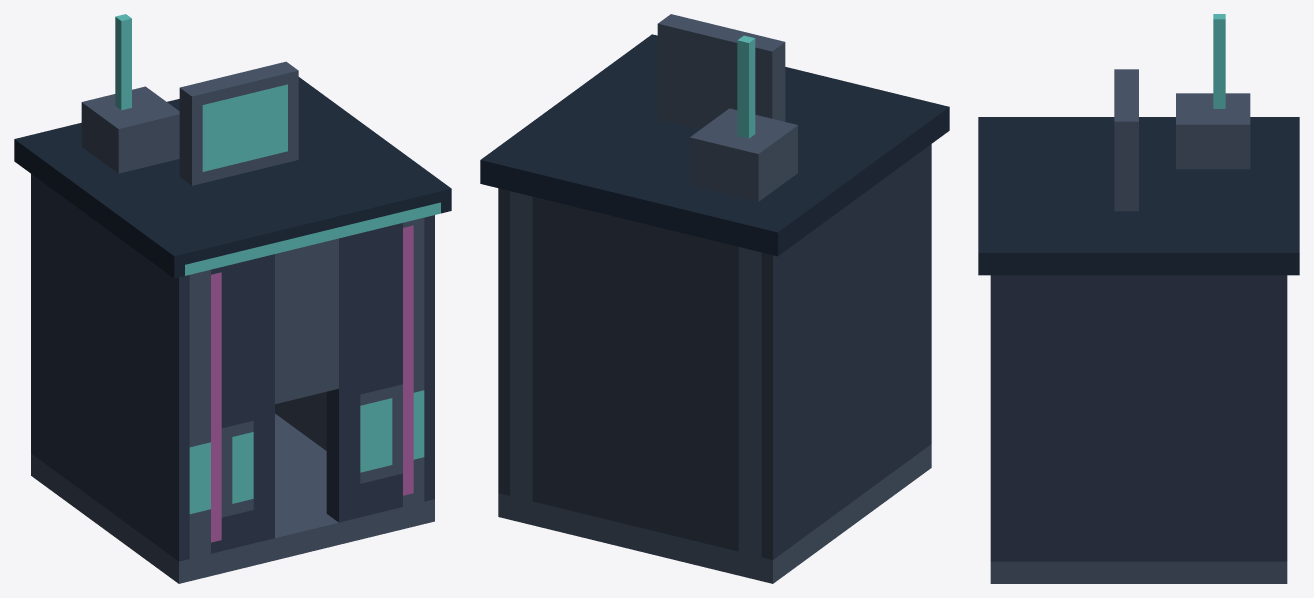
File: house.glb
3 renders of one model, left to right at view 1: azimuth 30°, elevation 25°; view 2: azimuth 150°, elevation 25°; view 3: azimuth 270°, elevation 25°, orthographic. The views are drawn at different scales.
Parts seen in each view (by area): view 1: Shell; view 2: Shell; view 3: Shell.
Boxes of the visible parts, x1=… form: Shell: x1=14, y1=14, x2=451, y2=583; Shell: x1=480, y1=14, x2=949, y2=583; Shell: x1=978, y1=14, x2=1299, y2=583.
Size of the model in its own units: 3.25 by 5.25 by 3.25.
